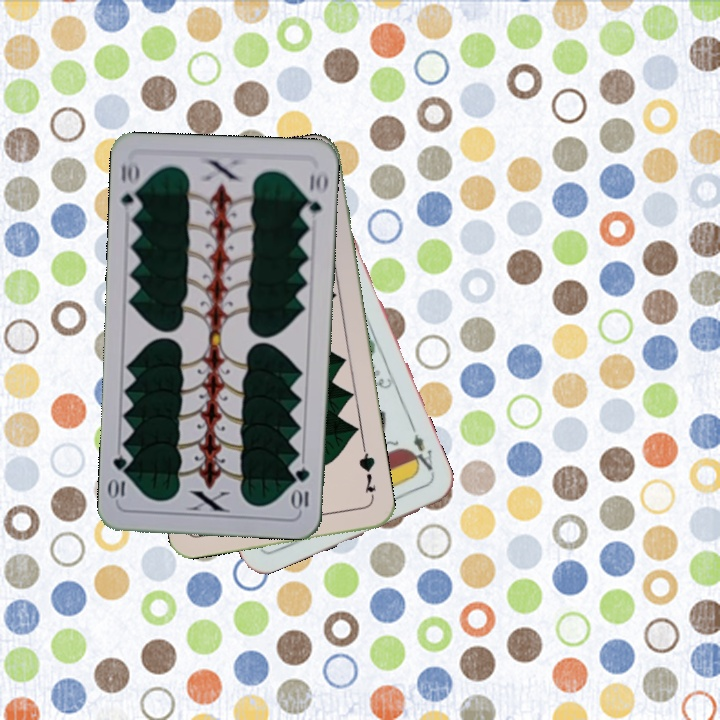EA: (406, 430, 438, 479)
G10: (117, 157, 144, 217), (291, 464, 312, 513)
G7: (354, 445, 379, 504)
